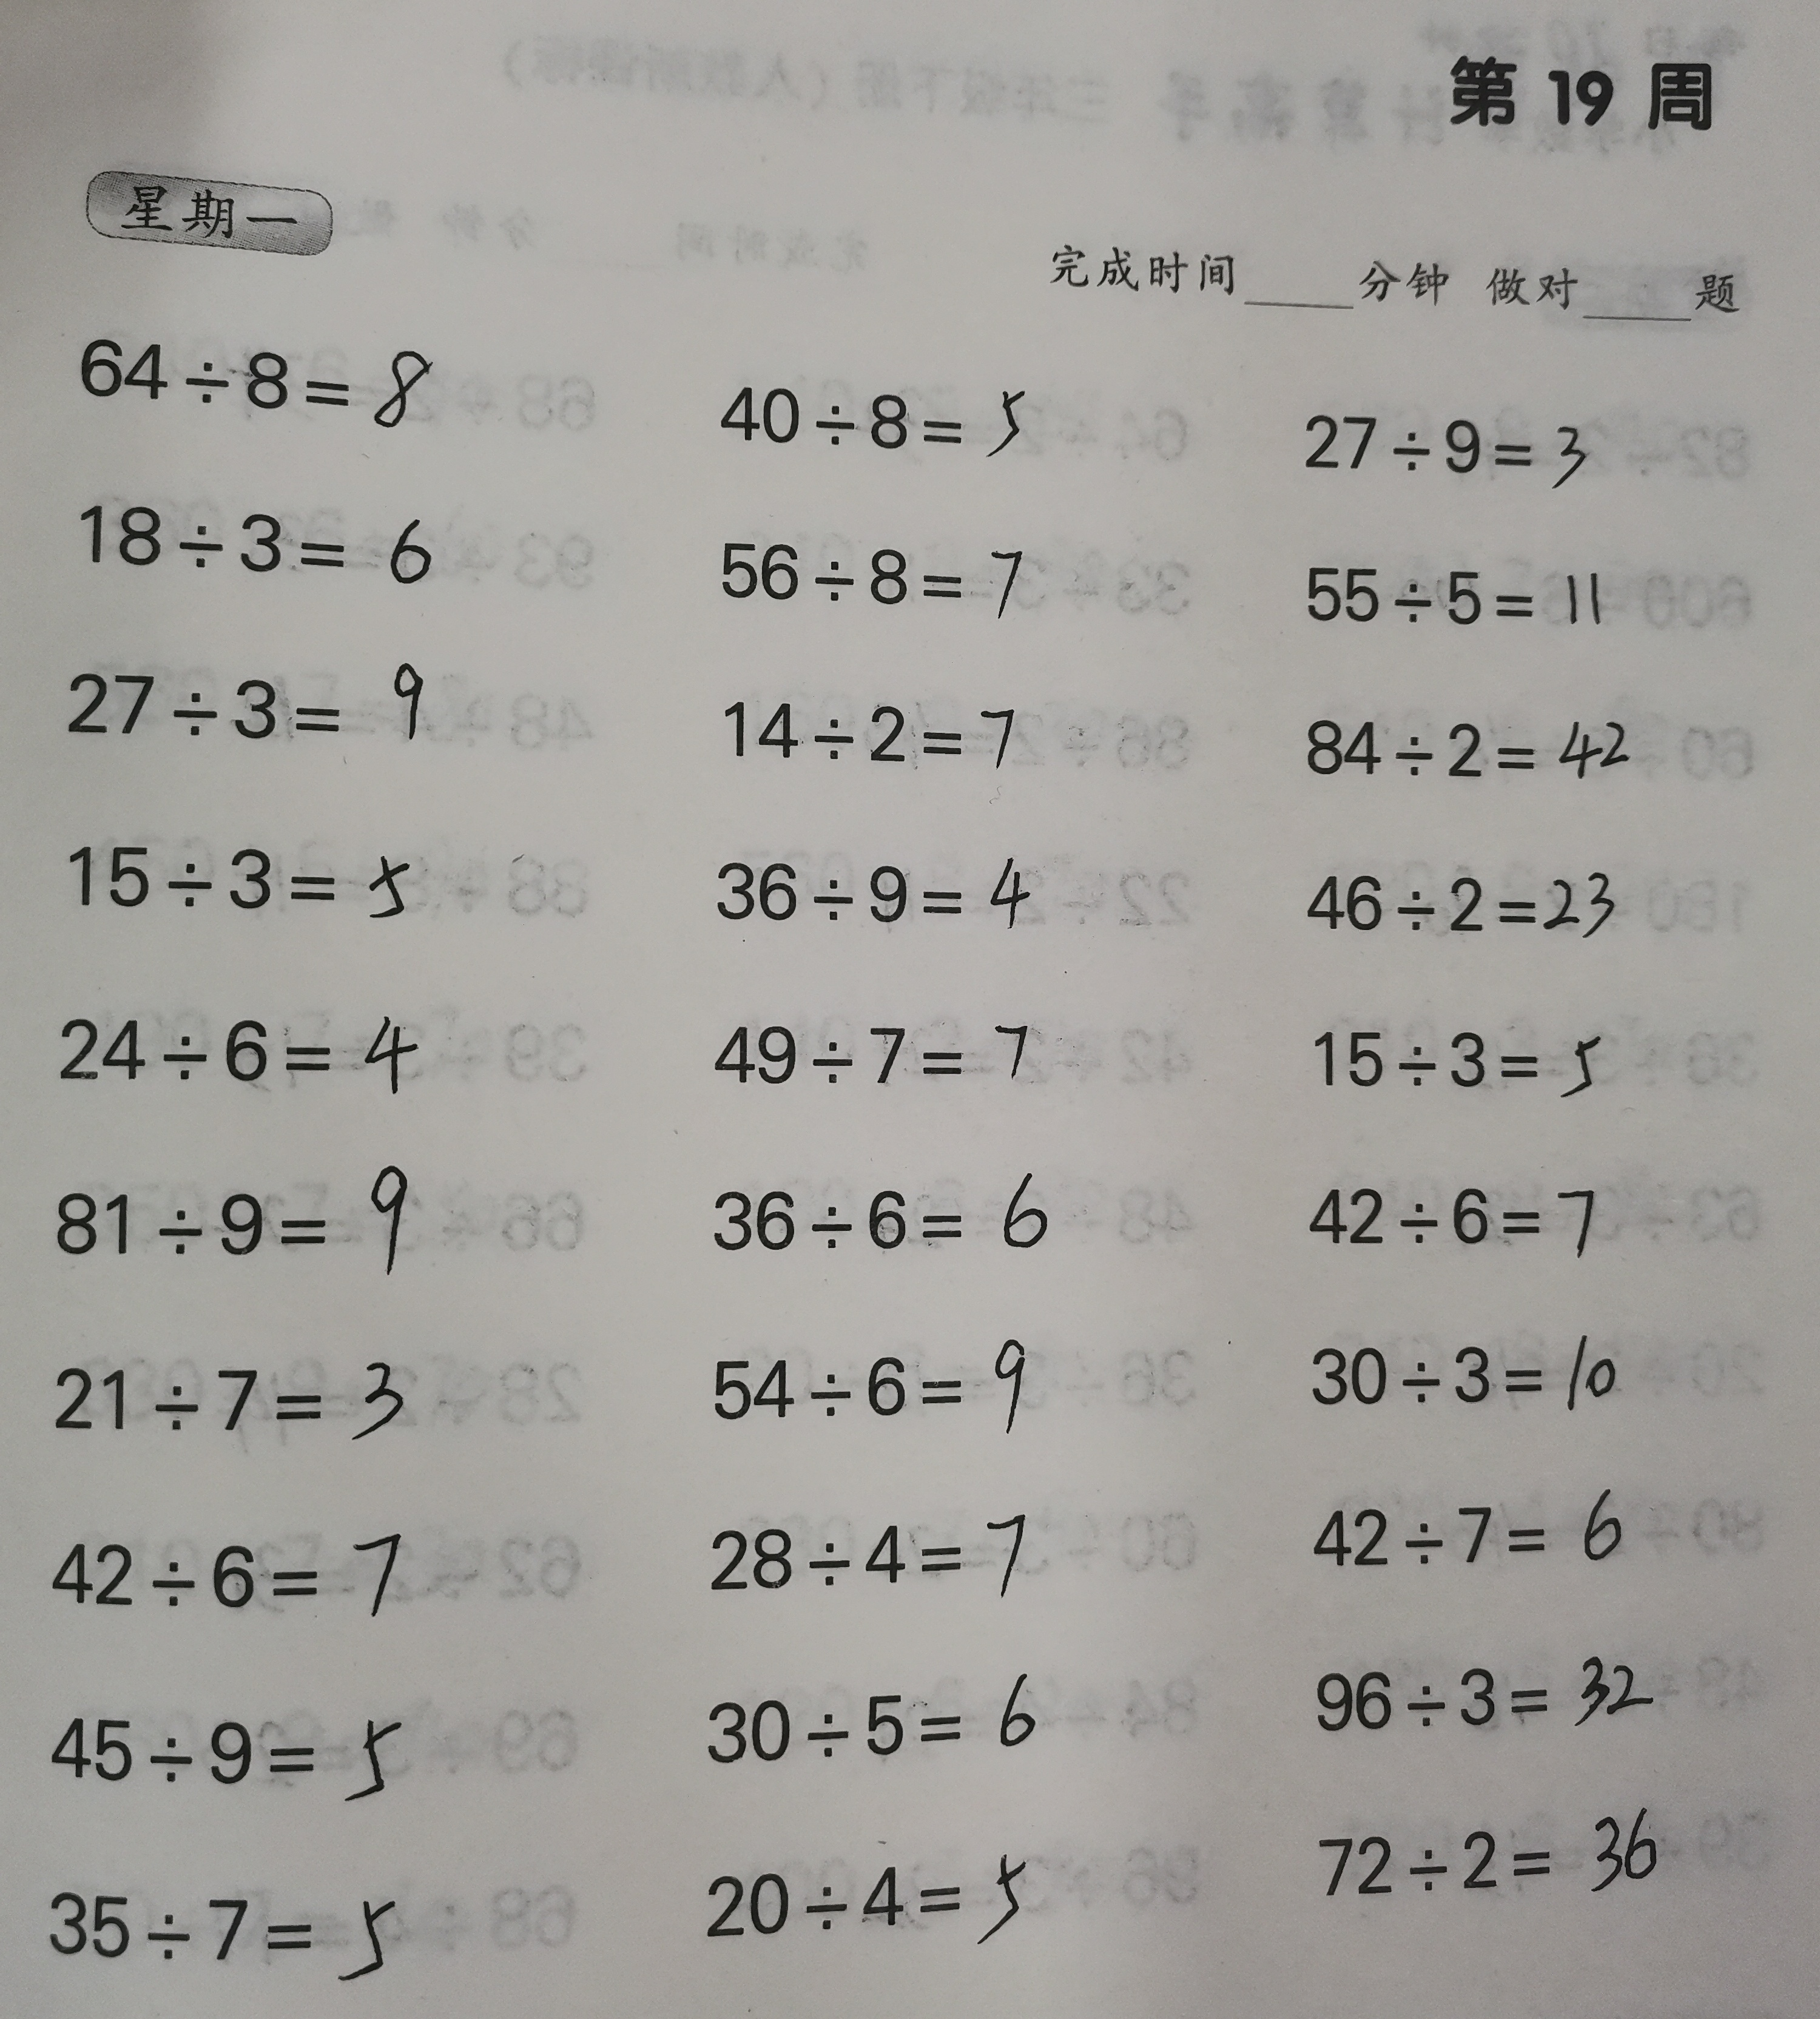equation: (39, 1146, 448, 1276), (35, 1864, 425, 2000), (76, 302, 437, 439), (33, 1694, 437, 1813), (47, 814, 443, 935), (67, 474, 453, 597), (1304, 1796, 1695, 1915), (1289, 684, 1664, 808), (696, 1824, 1047, 1956), (694, 1314, 1049, 1443), (39, 1509, 425, 1627), (690, 1661, 1066, 1778), (44, 986, 432, 1098), (1284, 378, 1616, 508), (28, 1344, 439, 1448), (1289, 1314, 1650, 1432), (53, 641, 439, 750), (1298, 1474, 1681, 1583), (694, 831, 1056, 944), (1304, 1638, 1683, 1743), (689, 1160, 1075, 1262), (1289, 845, 1630, 958), (708, 515, 1052, 626), (720, 355, 1049, 469), (690, 1003, 1068, 1102), (710, 671, 1040, 784), (703, 1494, 1044, 1603), (1296, 543, 1618, 652), (1289, 1165, 1618, 1265), (1293, 1009, 1630, 1105)
